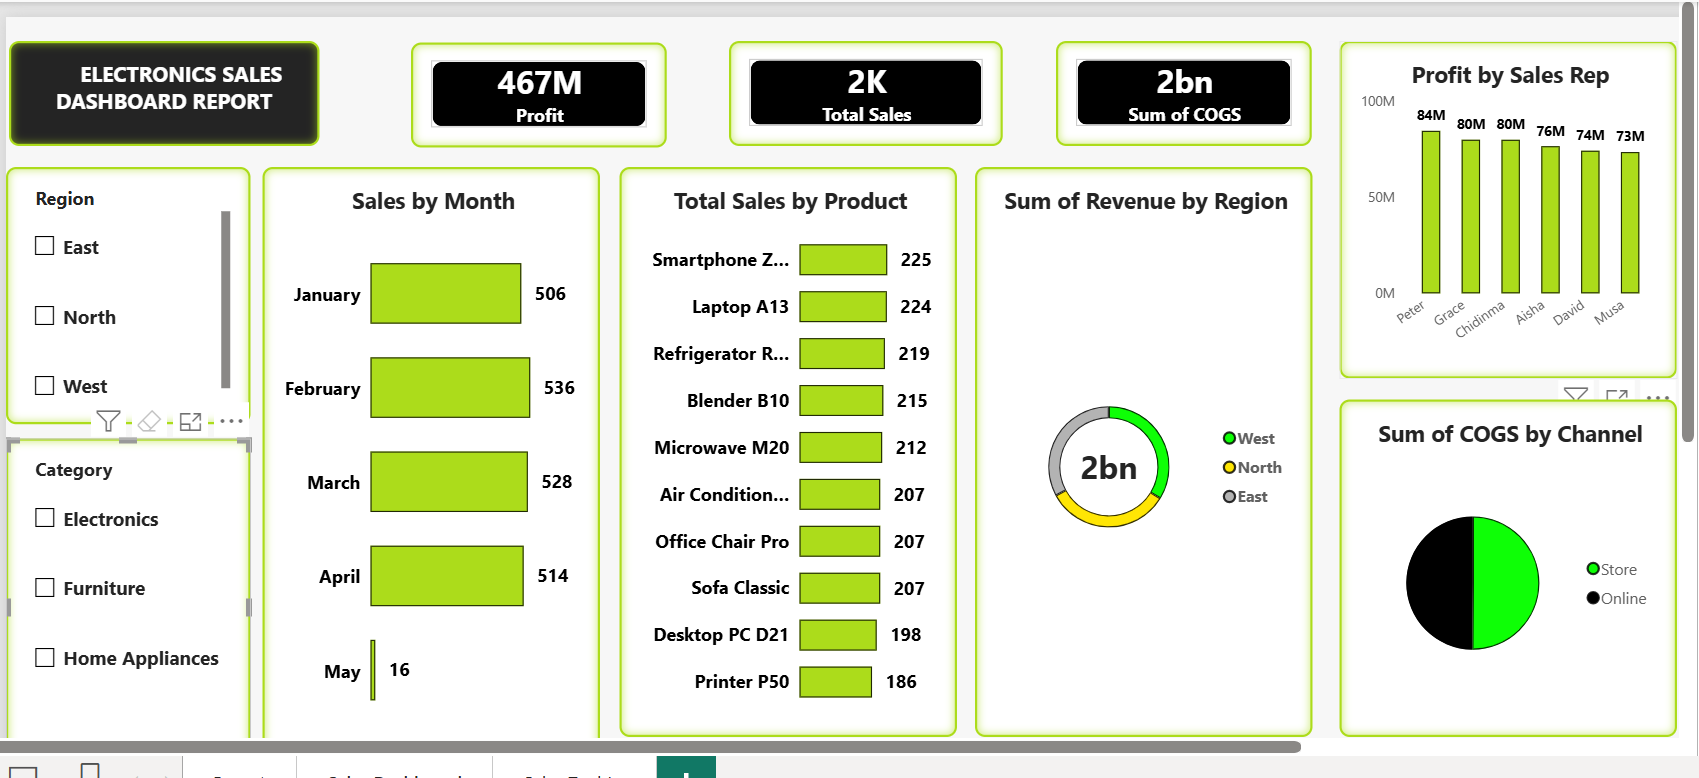

What the dashboard file says about the page in this screenshot:
{"tool":"powerbi","page":{"name":"Sales Dashboard","canvas":[1920,1080],"ordinal":1},"visuals":[{"type":"donutChart","fields":{"Category":["Sales Reps.Region"],"Y":["Sum(Sales Data.Revenue)"]},"box":[860.8,133.8,300,506.8],"z":0},{"type":"columnChart","fields":{"Category":["Sales Reps.Sales Rep"],"Y":["Sales Data.Profit"]},"box":[1185.1,21.6,300,300],"z":1000},{"type":"barChart","fields":{"Category":["Sales Data.Product"],"Y":["Sales Data.Total Sales"]},"box":[545.9,133.8,300,506.8],"z":2000},{"type":"pieChart","fields":{"Category":["Sales Data.Channel"],"Y":["Sum(Sales Data.COGS)"]},"box":[1185.1,340.5,300,300],"z":3000},{"type":"barChart","title":"Sales by Month","fields":{"Category":["Sales Data.Date.Variation.Date Hierarchy.Month"],"Y":["Sales Data.Total Sales"]},"box":[228.4,133.8,300,528.4],"z":4000},{"type":"slicer","fields":{"Values":["Sales Reps.Region"]},"box":[0,133.8,217.6,228.4],"z":5000},{"type":"slicer","fields":{"Values":["Sales Data.Category"]},"box":[0,374.3,217.6,300],"z":6000},{"type":"cardVisual","fields":{"Data":["Sales Data.Profit"]},"box":[359.5,23,227,93.2],"z":7000},{"type":"cardVisual","fields":{"Data":["Sales Data.Total Sales"]},"box":[643.2,21.6,243.2,93.2],"z":8000},{"type":"cardVisual","fields":{"Data":["Sum(Sales Data.COGS)"]},"box":[933.8,21.6,227,93.2],"z":9000},{"type":"textbox","box":[2.7,21.6,275.7,93.2],"z":10000}]}

Visuals, with their boxes on the page's 1920x1080 design canvas (x1, y1, x2, y2). These are canvas units, not pixel positions in the 1699x778 screenshot, which may show the page scaled, cropped or inside an application window:
donutChart - Sales Reps.Region x Sum(Sales Data.Revenue): {"left": 861, "top": 134, "right": 1161, "bottom": 641}
columnChart - Sales Reps.Sales Rep x Sales Data.Profit: {"left": 1185, "top": 22, "right": 1485, "bottom": 322}
barChart - Sales Data.Product x Sales Data.Total Sales: {"left": 546, "top": 134, "right": 846, "bottom": 641}
pieChart - Sales Data.Channel x Sum(Sales Data.COGS): {"left": 1185, "top": 340, "right": 1485, "bottom": 640}
"Sales by Month" barChart: {"left": 228, "top": 134, "right": 528, "bottom": 662}
slicer - Sales Reps.Region: {"left": 0, "top": 134, "right": 218, "bottom": 362}
slicer - Sales Data.Category: {"left": 0, "top": 374, "right": 218, "bottom": 674}
cardVisual - Sales Data.Profit: {"left": 360, "top": 23, "right": 586, "bottom": 116}
cardVisual - Sales Data.Total Sales: {"left": 643, "top": 22, "right": 886, "bottom": 115}
cardVisual - Sum(Sales Data.COGS): {"left": 934, "top": 22, "right": 1161, "bottom": 115}
textbox: {"left": 3, "top": 22, "right": 278, "bottom": 115}
